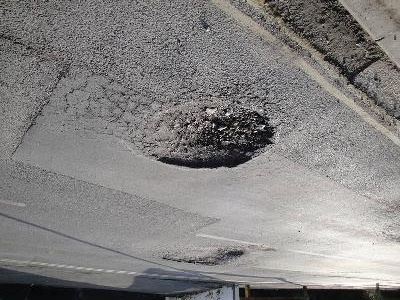pothole: (258, 0, 384, 83), (135, 102, 276, 172), (157, 243, 247, 269)
